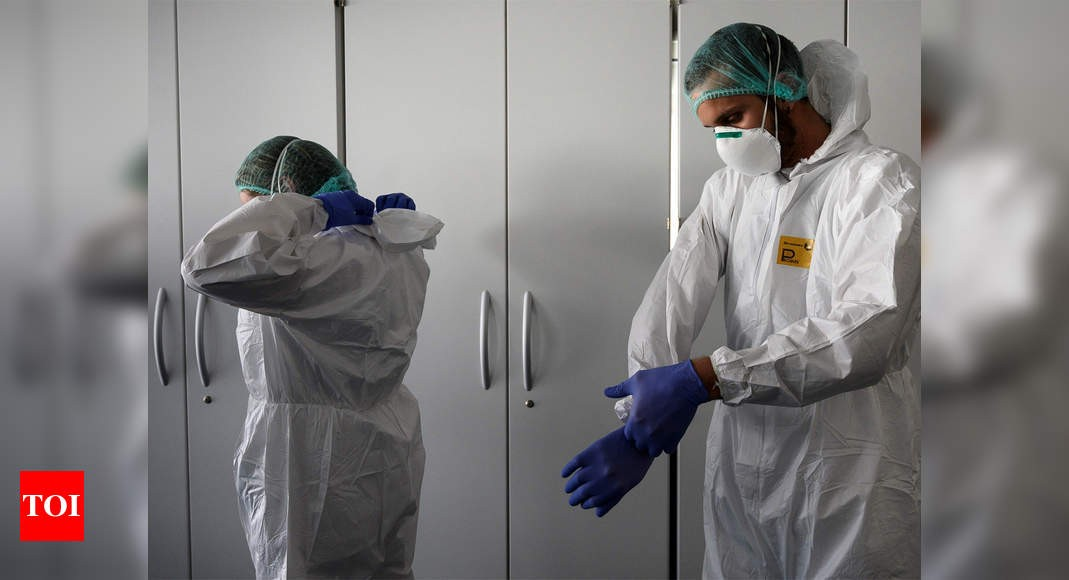Coverall: (628, 146, 916, 580), (165, 190, 435, 580)
Gloves: (599, 360, 707, 460), (560, 427, 658, 523), (313, 189, 374, 233), (374, 189, 415, 218)
with_mask: (697, 106, 788, 183)
